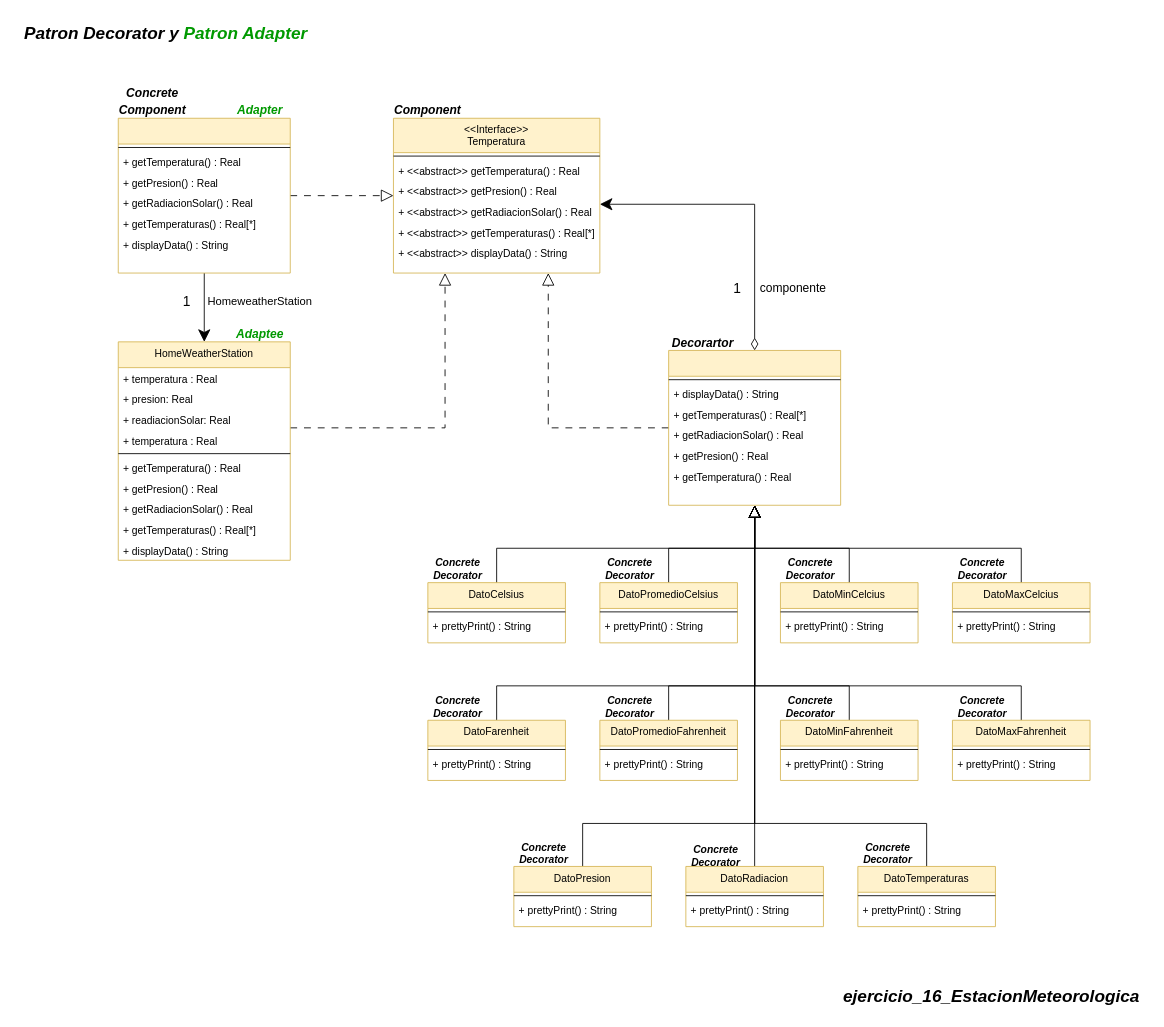
The diagram is 1164 pixels wide and 1027 high, and some of its shapes have lost their labels. The shapes that lost their labels are listed below. From the top down, each one's box as (x1, y1, x2, y2) in pixels, then its label:
(117, 117, 290, 273): HomeWeatherStationAdapter
(668, 350, 841, 505): Dato
